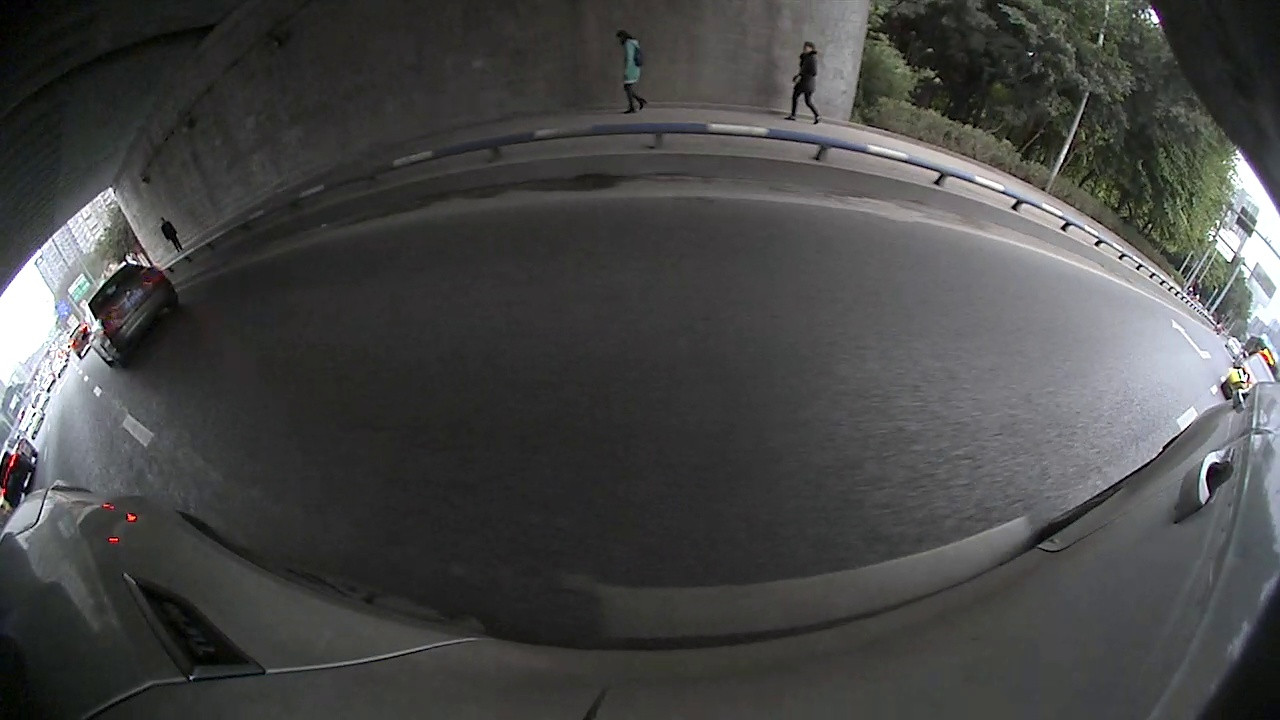car: (81, 258, 181, 371), (1220, 349, 1279, 404), (1, 435, 41, 511)
person: (617, 29, 641, 114), (799, 40, 820, 124), (160, 216, 175, 253)
